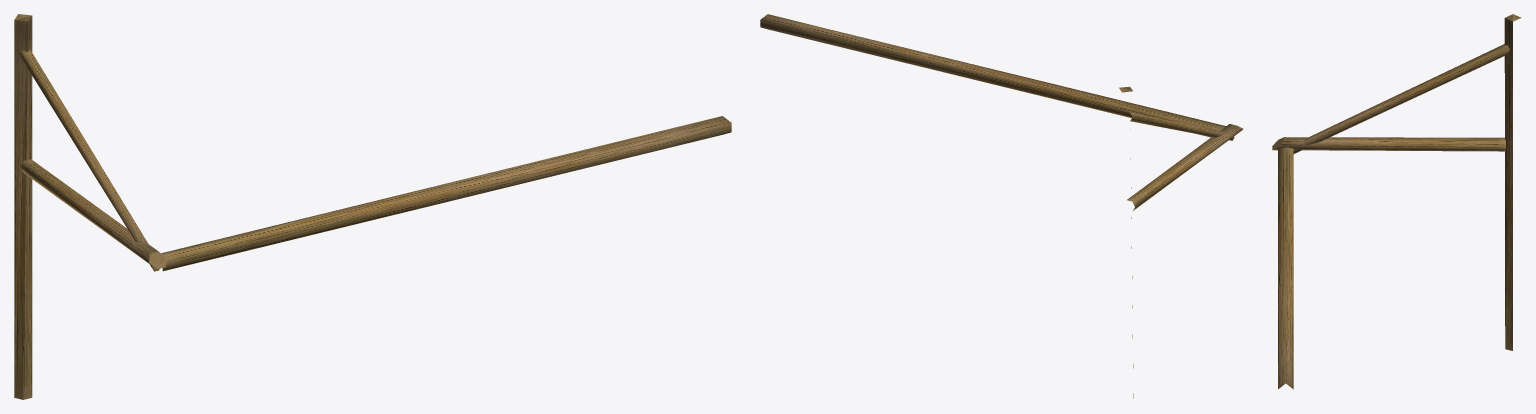
File: M7Z1_CityWall3A2_Poles.glb
3 views of the same model, side by side, from view 1: azimuth 30°, elevation 25°; view 2: azimuth 150°, elevation 25°; view 3: azimuth 270°, elevation 25° (orthographic). The views are drawn at different scales.
Visible parts, largest first — view 1: M7Z1_CITYWALL3A2_POLES; view 2: M7Z1_CITYWALL3A2_POLES; view 3: M7Z1_CITYWALL3A2_POLES.
Part boxes in pixels (x1,y1,x2,y2): M7Z1_CITYWALL3A2_POLES: [14, 14, 731, 399]; M7Z1_CITYWALL3A2_POLES: [760, 14, 1242, 398]; M7Z1_CITYWALL3A2_POLES: [1272, 14, 1521, 389].
Size of the model in its own units: 8.07 by 5 by 3.43.
1 material, 1 textured.
